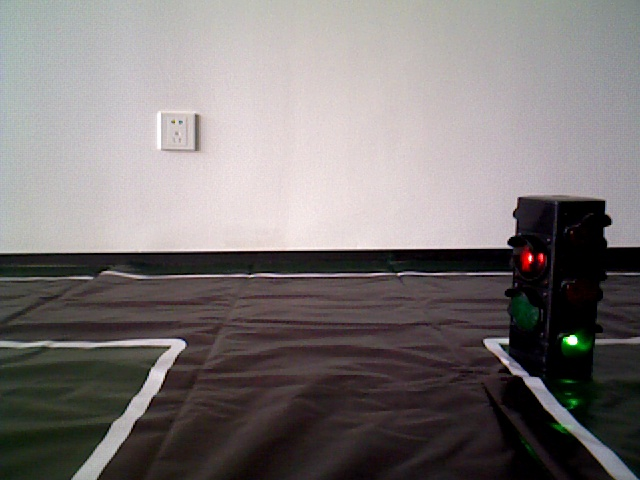green: (518, 195, 592, 362)
